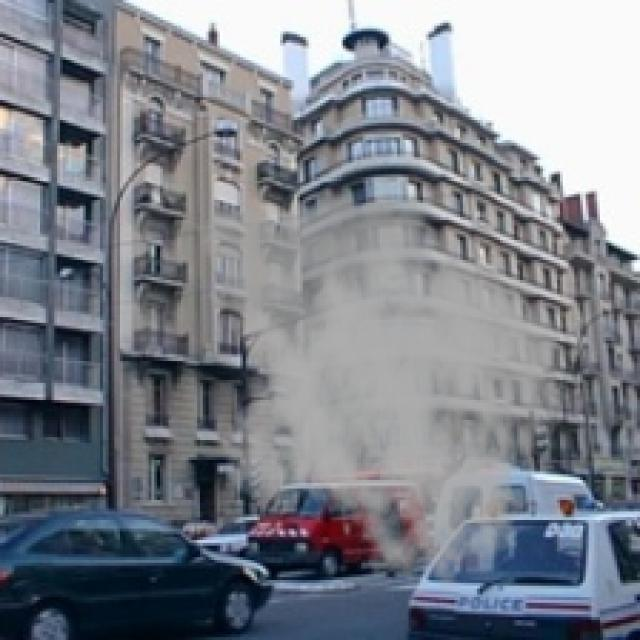Smoke: (183, 180, 566, 594)
